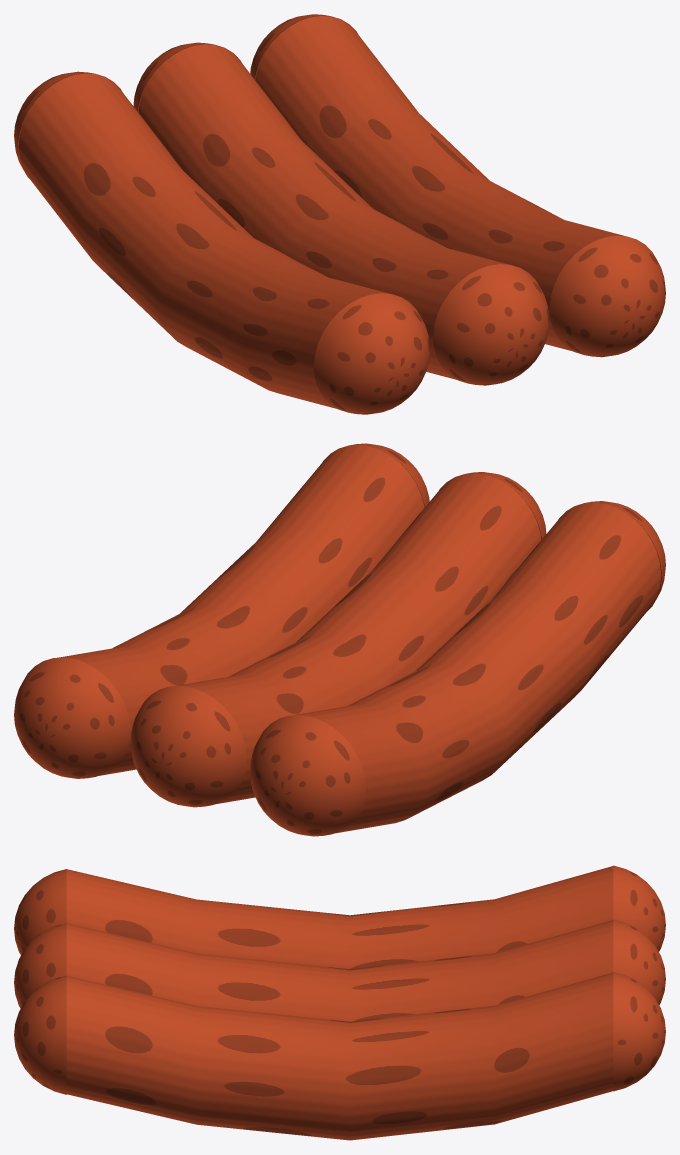
File: CalabresaNormal2.fbx
3 views of the same model, one above another, from view 1: azimuth 30°, elevation 25°; view 2: azimuth 150°, elevation 25°; view 3: azimuth 270°, elevation 25° (orthographic). The views are drawn at different scales.
Parts seen in each view (by area): view 1: Cilindro.002, Cilindro, Cilindro.001, Esfera UV.001, Esfera UV.002, Esfera UV.004, Esfera UV.005, Esfera UV, Esfera UV.003; view 2: Cilindro.002, Cilindro, Cilindro.001, Esfera UV.005, Esfera UV, Esfera UV.003, Esfera UV.004, Esfera UV.001, Esfera UV.002; view 3: Cilindro.001, Cilindro.002, Cilindro, Esfera UV.003, Esfera UV.002, Esfera UV.005, Esfera UV.004, Esfera UV, Esfera UV.001.
Part boxes in pixels (left/top/right/bottom): Cilindro.002: left=18, top=73, right=389, bottom=408; Cilindro: left=138, top=44, right=508, bottom=379; Cilindro.001: left=255, top=16, right=625, bottom=351; Esfera UV.001: left=433, top=264, right=549, bottom=385; Esfera UV.002: left=549, top=235, right=665, bottom=357; Esfera UV.004: left=313, top=293, right=429, bottom=414; Esfera UV.005: left=14, top=71, right=121, bottom=178; Esfera UV: left=133, top=42, right=241, bottom=112; Esfera UV.003: left=250, top=14, right=357, bottom=79; Cilindro.002: left=294, top=502, right=661, bottom=833; Cilindro: left=174, top=473, right=541, bottom=803; Cilindro.001: left=57, top=445, right=424, bottom=775; Esfera UV.005: left=250, top=715, right=366, bottom=836; Esfera UV: left=130, top=685, right=246, bottom=807; Esfera UV.003: left=14, top=657, right=130, bottom=778; Esfera UV.004: left=558, top=501, right=665, bottom=610; Esfera UV.001: left=439, top=472, right=546, bottom=539; Esfera UV.002: left=323, top=443, right=429, bottom=507; Cilindro.001: left=66, top=972, right=613, bottom=1140; Cilindro.002: left=66, top=866, right=613, bottom=968; Cilindro: left=66, top=920, right=613, bottom=1021; Esfera UV.003: left=613, top=972, right=665, bottom=1091; Esfera UV.002: left=14, top=975, right=66, bottom=1094; Esfera UV.005: left=613, top=865, right=665, bottom=951; Esfera UV.004: left=14, top=869, right=66, bottom=954; Esfera UV: left=613, top=919, right=665, bottom=1004; Esfera UV.001: left=14, top=923, right=66, bottom=1008.
Bounding box in the file's own units: 27.4 × 12.8 × 48.04.
